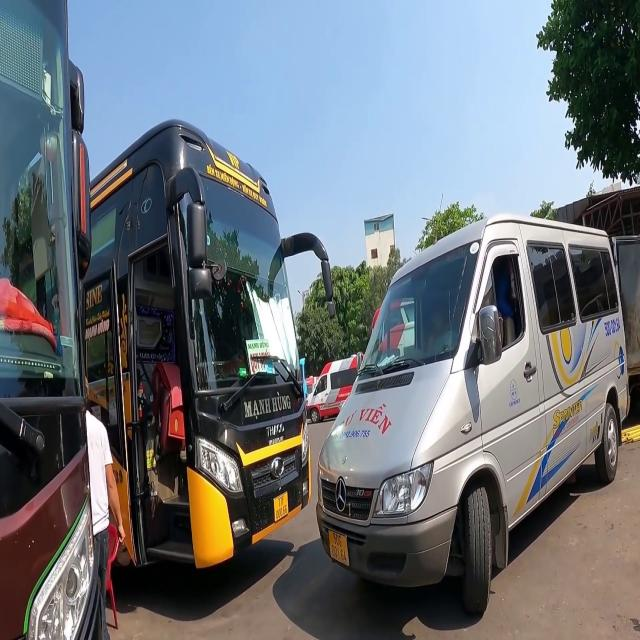bien_vang: (328, 525, 350, 569), (271, 490, 290, 523)
